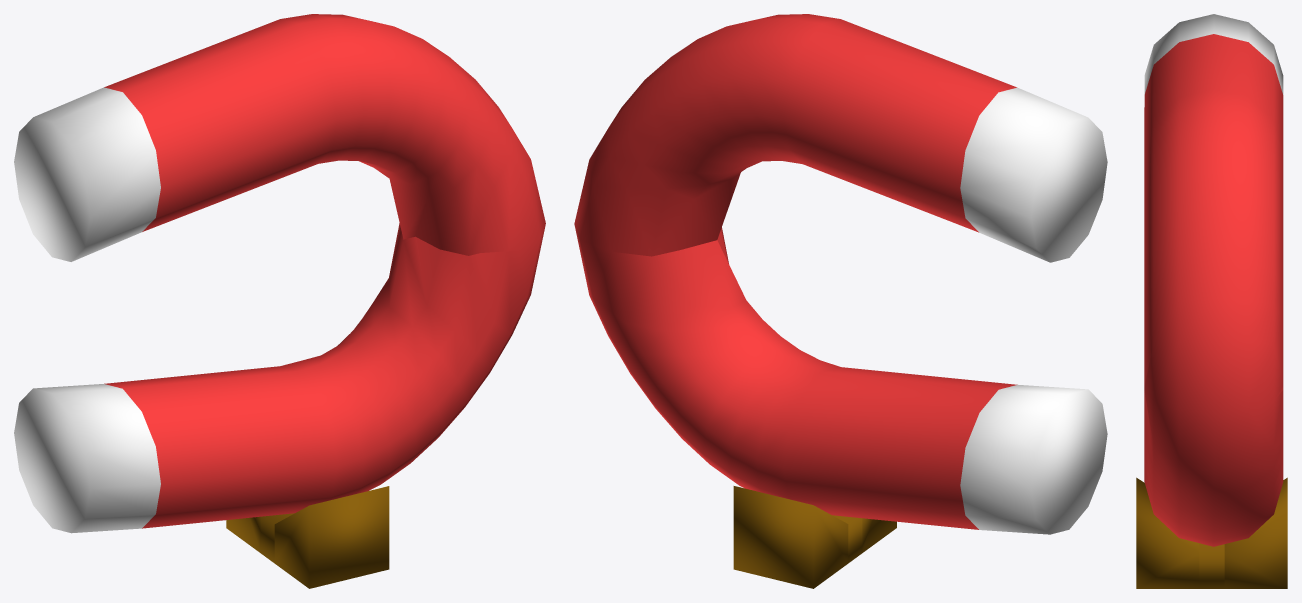
File: magnet.fbx
The picture shows the model from 3 angles, left to right: view 1: azimuth 30°, elevation 25°; view 2: azimuth 150°, elevation 25°; view 3: azimuth 270°, elevation 25°; orthographic projection. The views are drawn at different scales.
Parts seen in each view (by area): view 1: Magnet; view 2: Magnet; view 3: Magnet.
Boxes of the visible parts, x1,y1,x2,y2 form: Magnet: [14, 14, 545, 588]; Magnet: [574, 14, 1107, 588]; Magnet: [1136, 14, 1287, 588].
Size of the model in its own units: 604 by 630 by 180.
